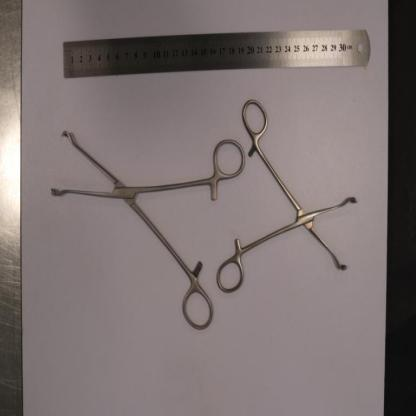8 Babcock Tissue Forceps: (52, 132, 245, 333)
Babcock Tissue Forceps: (217, 100, 358, 291)
